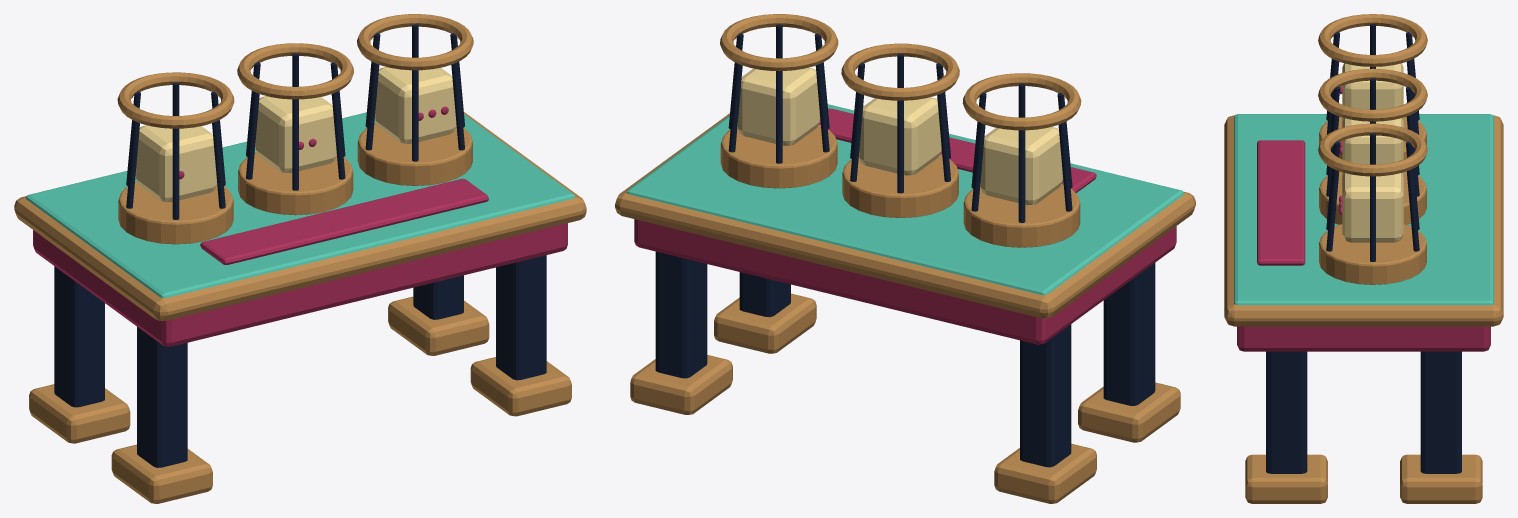
The model's file is SicBo.fbx.
3 views of the same model, side by side, from view 1: azimuth 30°, elevation 25°; view 2: azimuth 150°, elevation 25°; view 3: azimuth 270°, elevation 25° (orthographic). The views are drawn at different scales.
Parts seen in each view (by area): view 1: SicBo.Mesh, SicBo.DiceCup0.Mesh, SicBo.DiceCup1.Mesh, SicBo.DiceCup2.Mesh, SicBo.Die0.Mesh, SicBo.Die1.Mesh, SicBo.Die2.Mesh; view 2: SicBo.Mesh, SicBo.DiceCup0.Mesh, SicBo.DiceCup1.Mesh, SicBo.DiceCup2.Mesh, SicBo.Die1.Mesh, SicBo.Die0.Mesh, SicBo.Die2.Mesh; view 3: SicBo.Mesh, SicBo.DiceCup2.Mesh, SicBo.Die2.Mesh, SicBo.DiceCup1.Mesh, SicBo.DiceCup0.Mesh, SicBo.Die1.Mesh, SicBo.Die0.Mesh.
Boxes of the visible parts, x1=… form: SicBo.Mesh: x1=14, y1=112, x2=586, y2=503; SicBo.DiceCup0.Mesh: x1=117, y1=72, x2=234, y2=219; SicBo.DiceCup1.Mesh: x1=237, y1=43, x2=353, y2=190; SicBo.DiceCup2.Mesh: x1=357, y1=14, x2=473, y2=161; SicBo.Die0.Mesh: x1=135, y1=125, x2=216, y2=202; SicBo.Die1.Mesh: x1=255, y1=96, x2=336, y2=173; SicBo.Die2.Mesh: x1=375, y1=67, x2=455, y2=143; SicBo.Mesh: x1=615, y1=104, x2=1195, y2=503; SicBo.DiceCup0.Mesh: x1=962, y1=73, x2=1081, y2=222; SicBo.DiceCup1.Mesh: x1=841, y1=43, x2=959, y2=193; SicBo.DiceCup2.Mesh: x1=720, y1=14, x2=838, y2=163; SicBo.Die1.Mesh: x1=859, y1=97, x2=941, y2=175; SicBo.Die0.Mesh: x1=980, y1=127, x2=1063, y2=205; SicBo.Die2.Mesh: x1=738, y1=67, x2=820, y2=145; SicBo.Mesh: x1=1224, y1=114, x2=1503, y2=503; SicBo.DiceCup2.Mesh: x1=1318, y1=123, x2=1427, y2=261; SicBo.Die2.Mesh: x1=1339, y1=173, x2=1403, y2=242; SicBo.DiceCup1.Mesh: x1=1318, y1=68, x2=1427, y2=196; SicBo.DiceCup0.Mesh: x1=1318, y1=14, x2=1427, y2=134; SicBo.Die1.Mesh: x1=1339, y1=118, x2=1403, y2=176; SicBo.Die0.Mesh: x1=1339, y1=63, x2=1403, y2=121.
Bounding box in the file's own units: 260 × 196 × 155.
